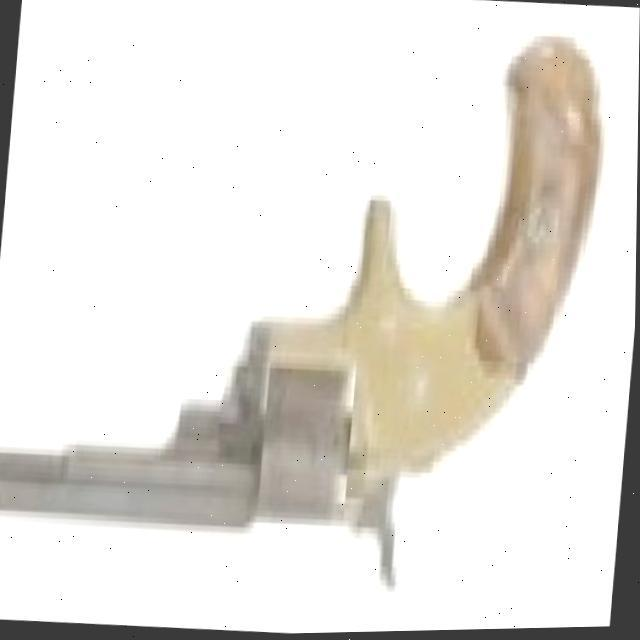gun: (0, 0, 604, 612)
